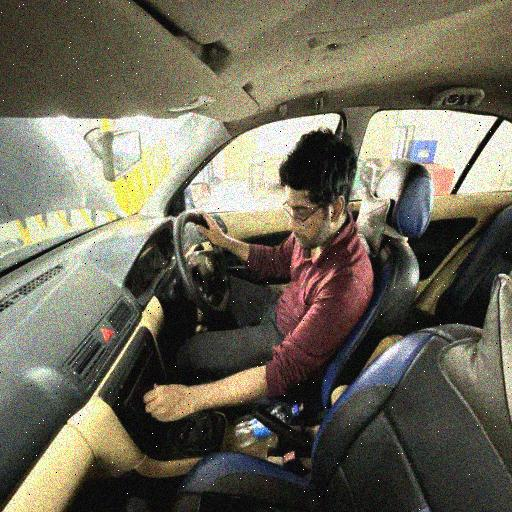operatingradio: (117, 127, 369, 436)
